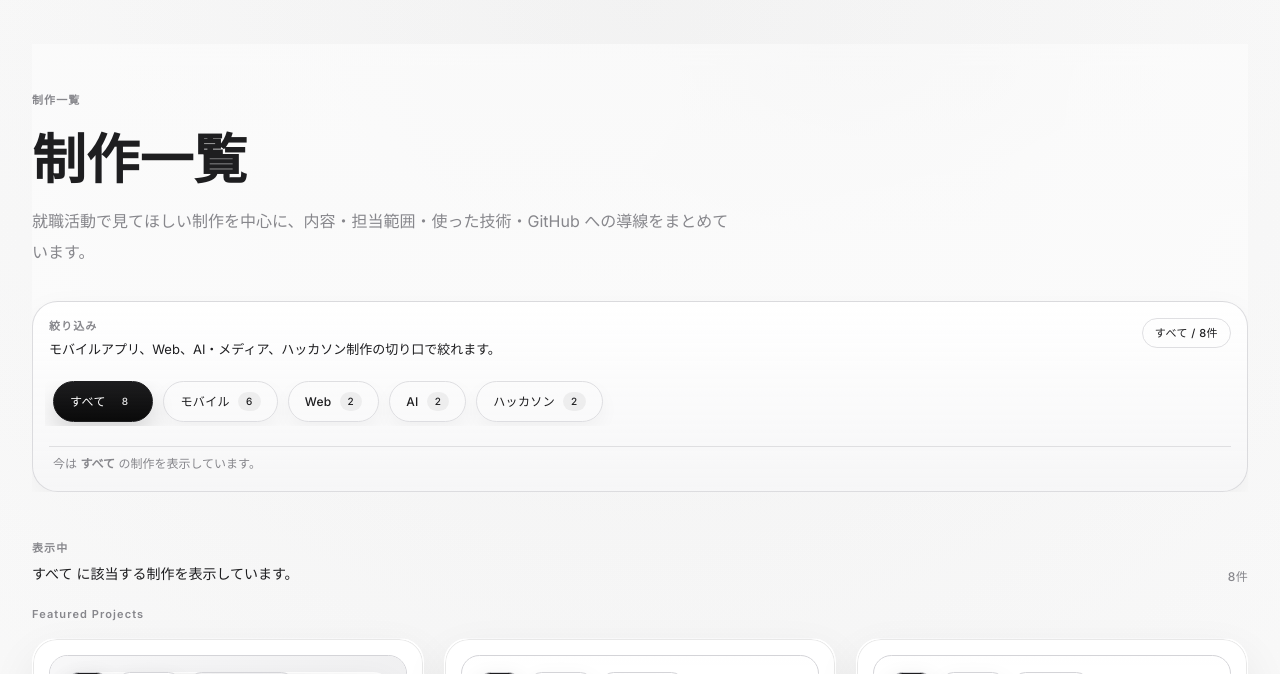
ProjectsPage › filters visible project cards from user interaction
Click the button "AI 2".
click(428, 402)  # box [389,381,466,422]
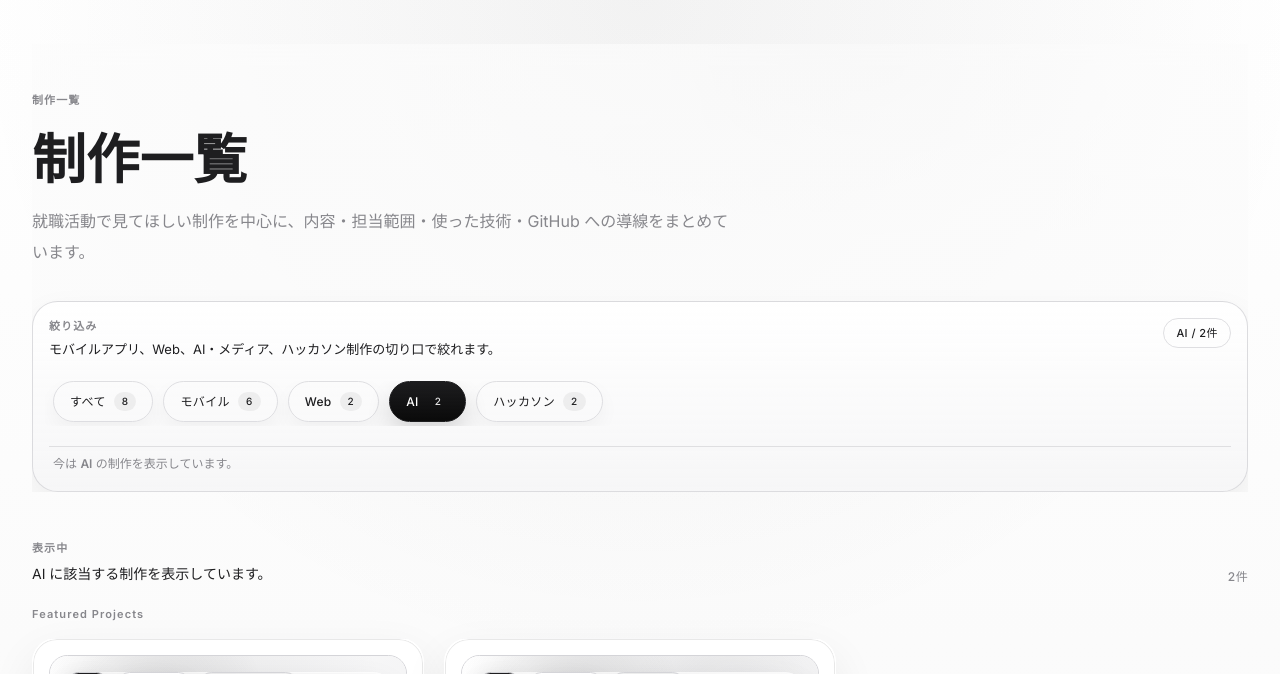
Expected: the text "今は AI の制作を表示しています。" is shown, [53,453,238,475]
Click the button "すべて 8".
click(103, 402)  # box [53,381,154,422]
(page scrolled)
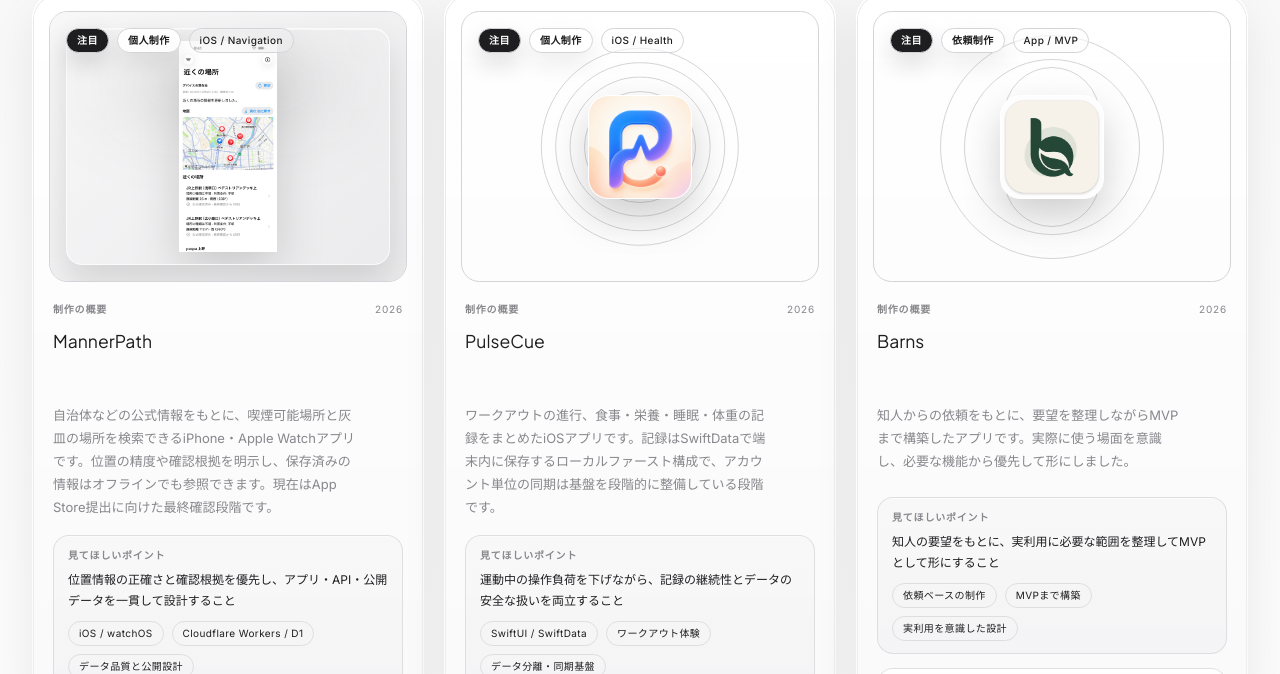
Expected: the heading "PulseCue" is shown, [465,330,545,352]
